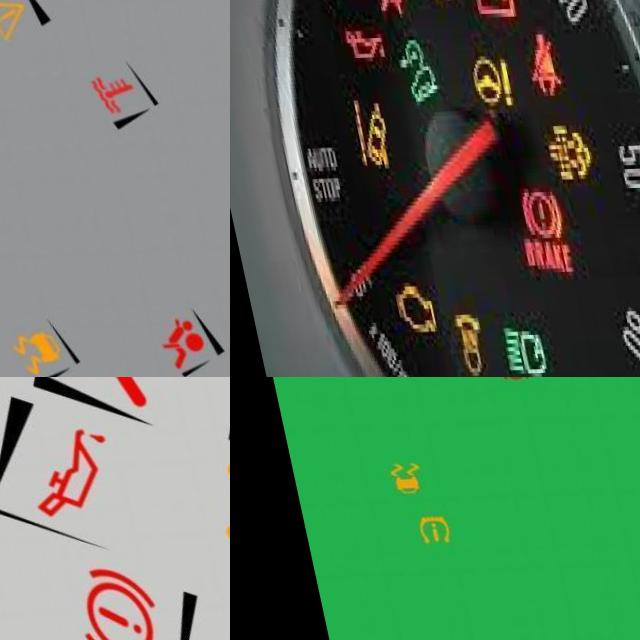Electronic Power Steering: (454, 60, 508, 114)
Seat Belt: (515, 34, 550, 99)
